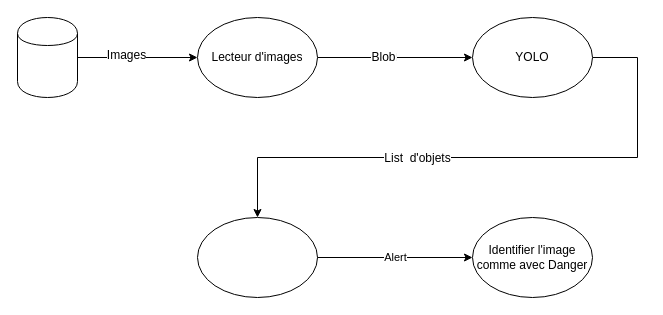
Some shapes in this 663 by 315 pixel diagram are drawn without their labels. The shapes that lost their labels are listed below. From the top down, each one's centre as x and y in pixels, then its label:
At (47,57): "Banque Image".
At (257,257): "La liste contient-elle une personne ?".
